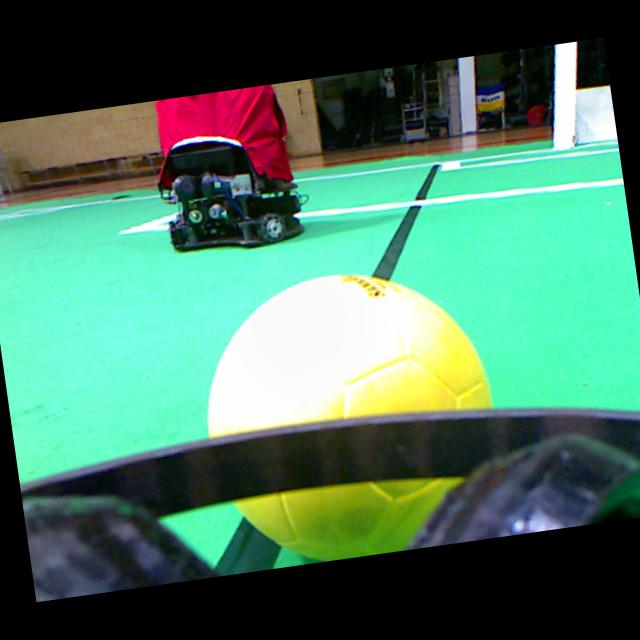ball: (208, 275, 491, 436)
goal: (553, 42, 576, 149)
